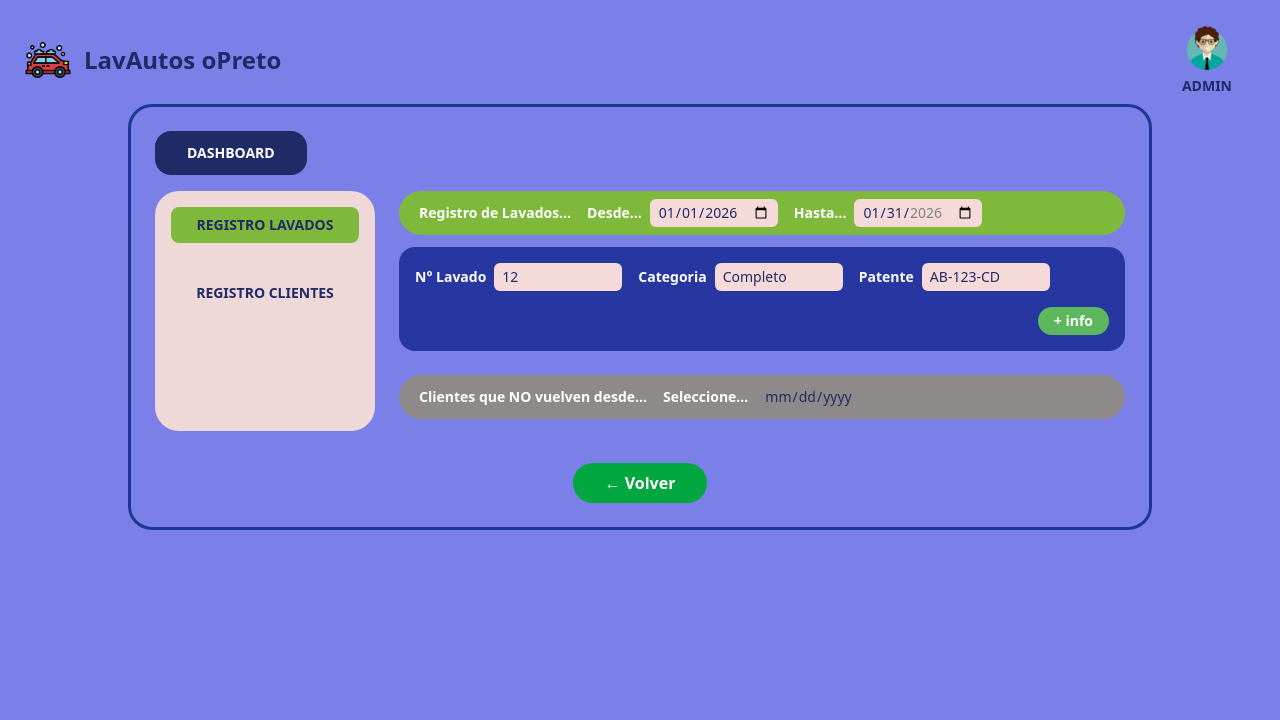
Test: DashboardPage › +info del lavado abre la ventana y Aceptar la cierra conservando resultados
The width and height of the screenshot is (1280, 720).
Expected: the field showing "12" is shown, [494,263,622,291]
Click the button "+ info". click: click(1073, 321)
box: [1038,307,1109,335]
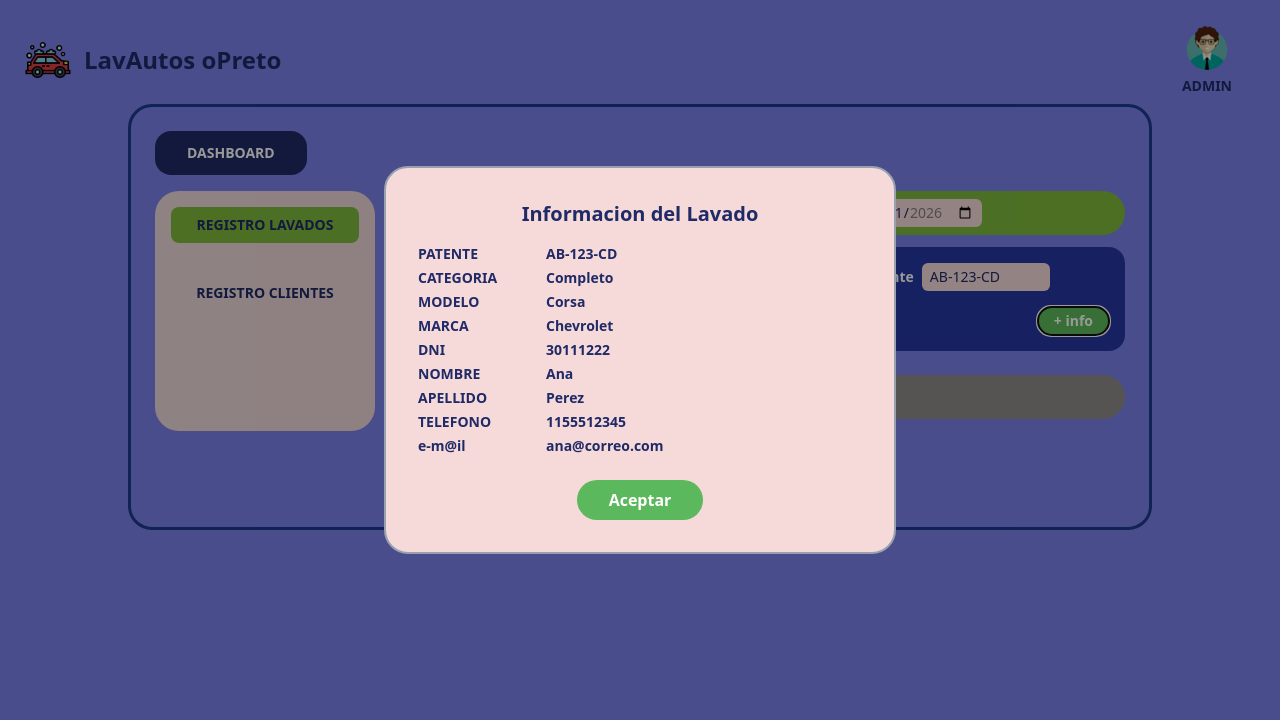
Now the text "Chevrolet" is shown, box [546,316,614,336]
Now the text "ana@correo.com" is shown, box [546,436,664,456]
Click the button "Aceptar". click: click(640, 500)
box: [577,480,703,520]
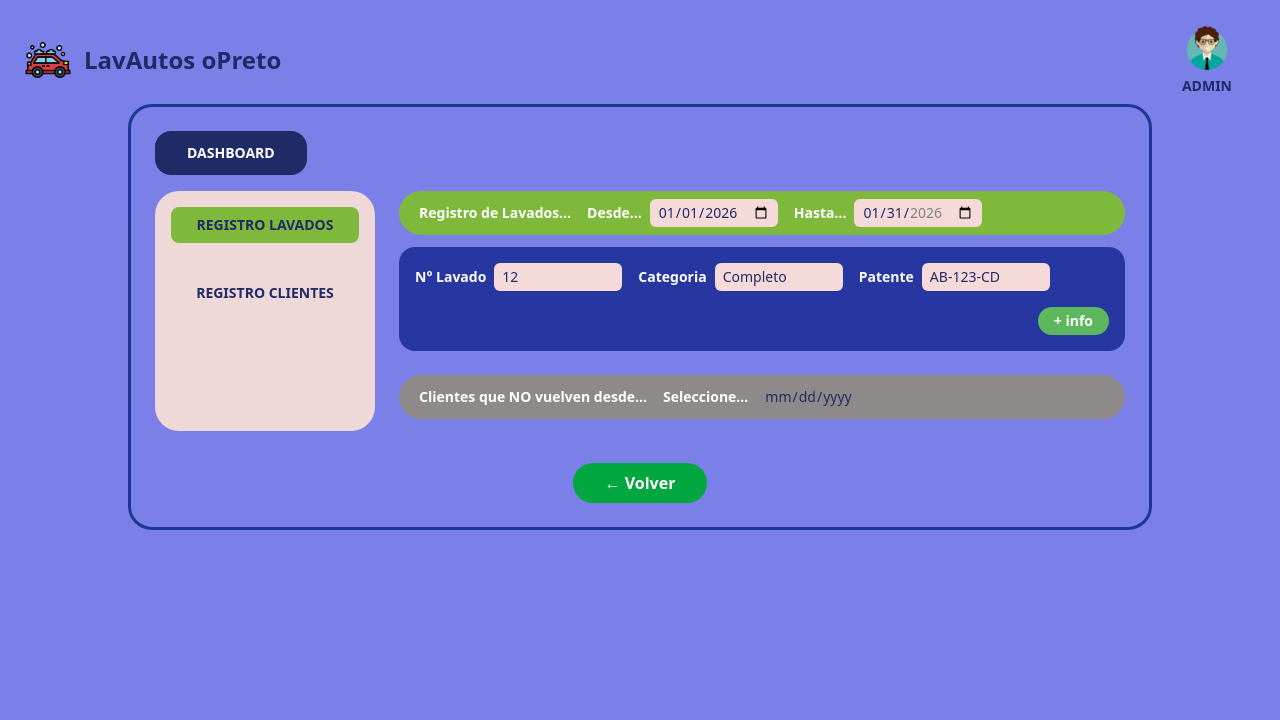
Expected: the field showing "12" is shown, [494,263,622,291]
Now the dialog is gone
